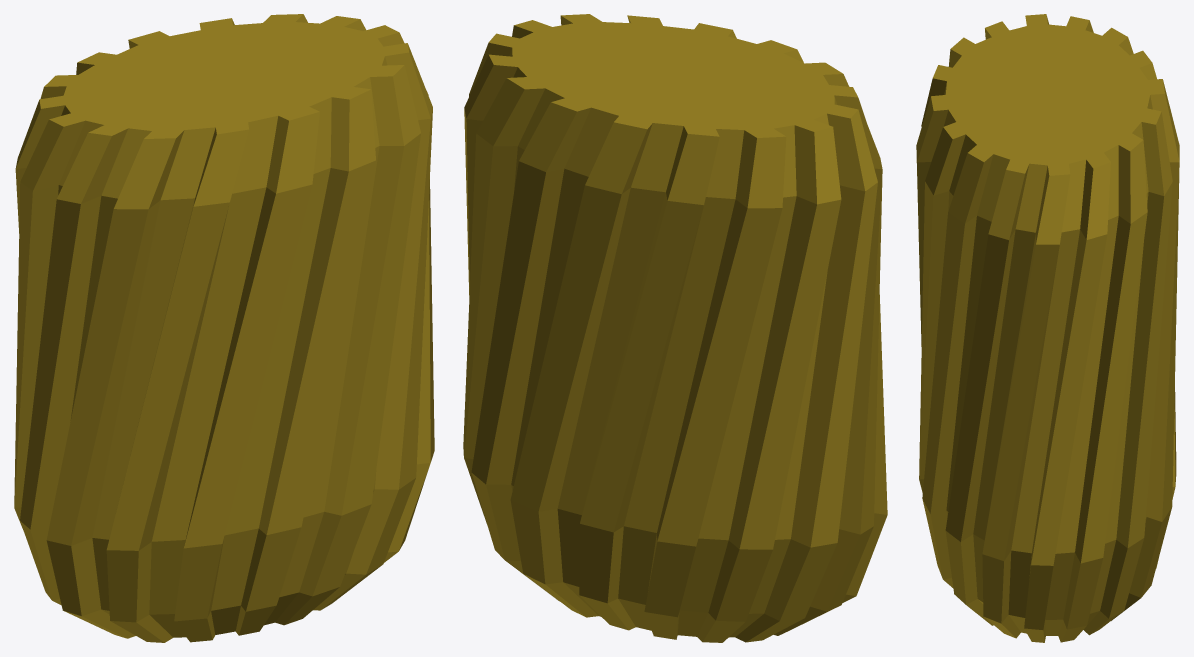
The model's file is Pomo.fbx.
3 views of the same model, side by side, from view 1: azimuth 30°, elevation 25°; view 2: azimuth 150°, elevation 25°; view 3: azimuth 270°, elevation 25° (orthographic). The views are drawn at different scales.
Visible parts, largest first — view 1: pomel; view 2: pomel; view 3: pomel.
Boxes of the visible parts, x1,y1,x2,y2 form: pomel: (14, 14, 434, 642); pomel: (463, 14, 887, 642); pomel: (916, 14, 1179, 642).
Bounding box in the file's own units: 73.95 × 93.82 × 45.22.
